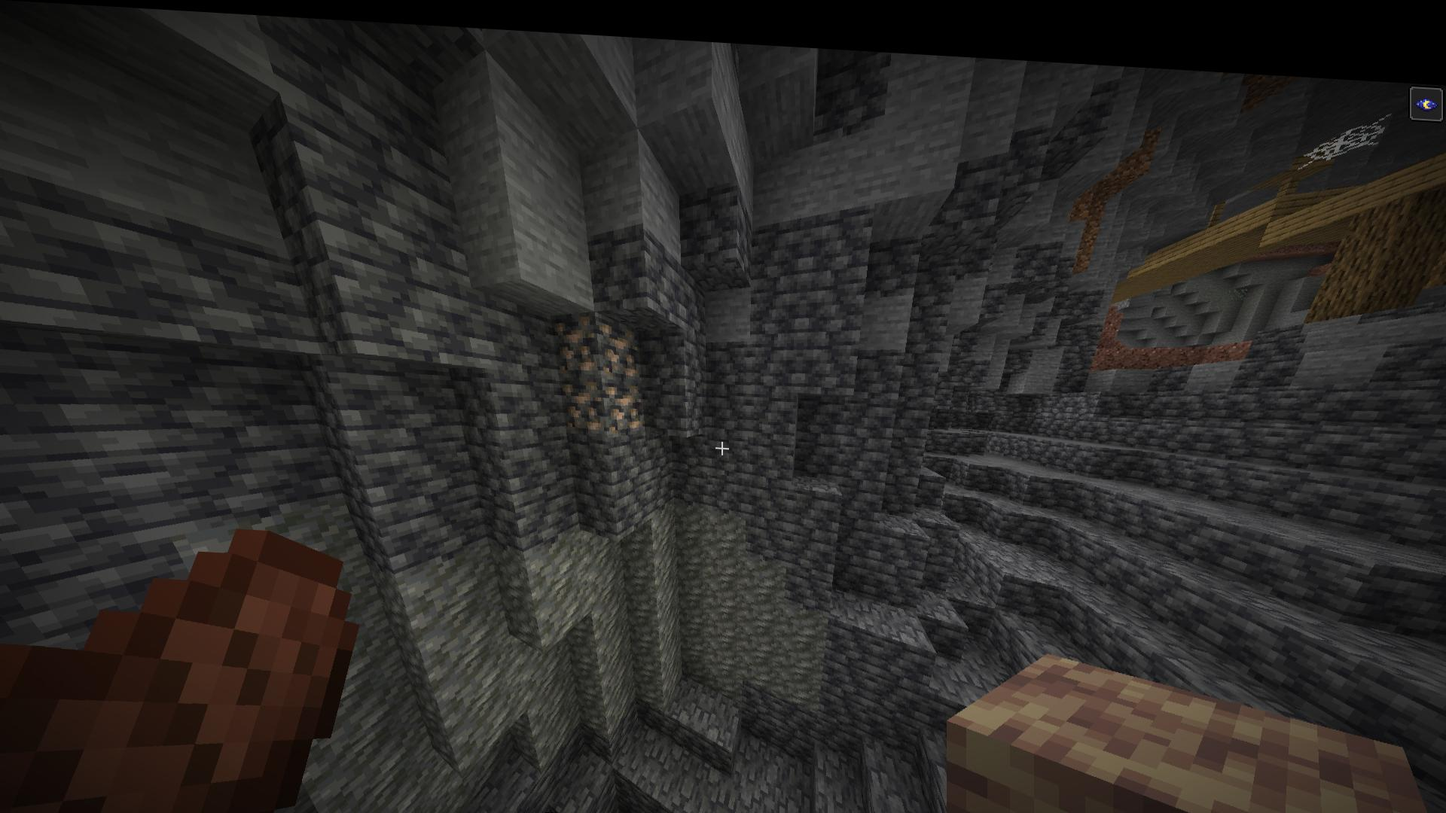iron ore: (552, 306, 637, 374), (561, 373, 643, 425)
